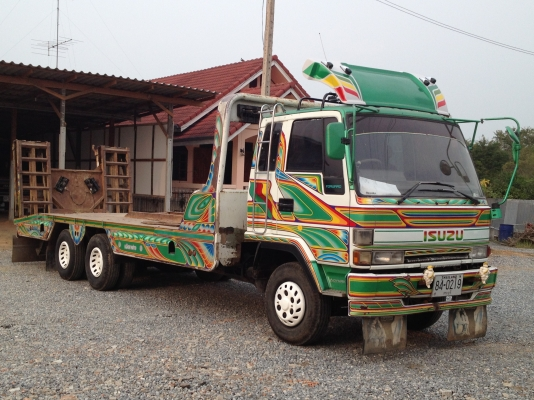truck: (235, 97, 500, 346)
